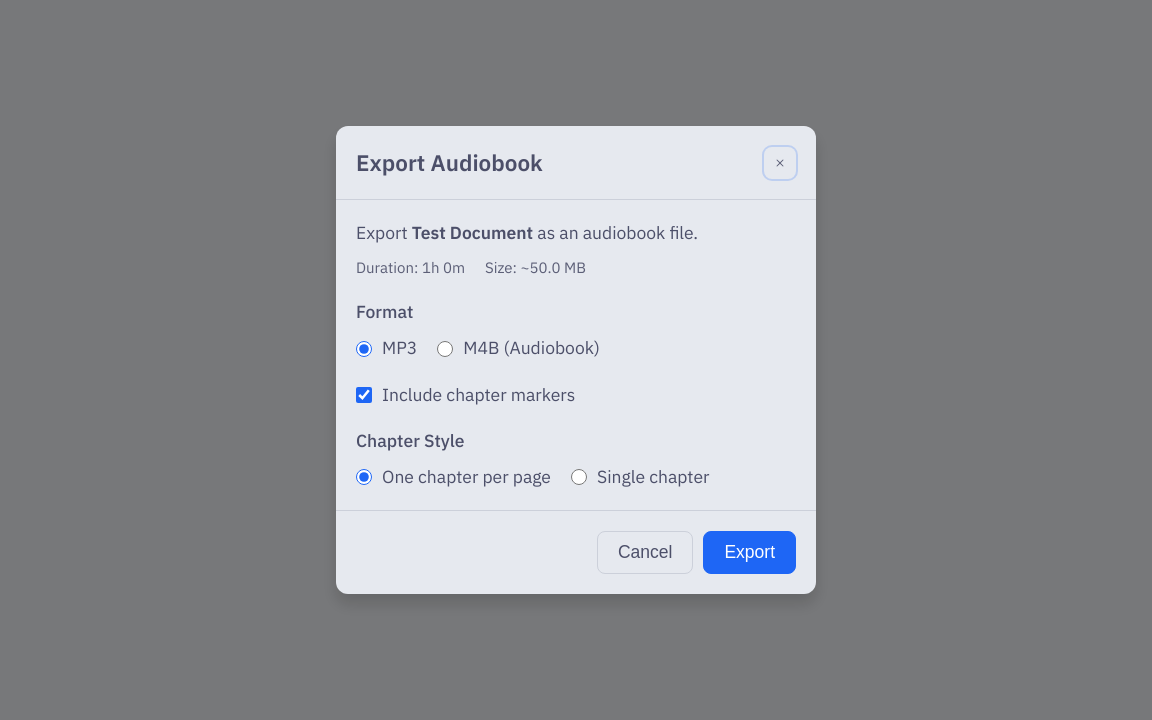
Test: AudioExportDialog › error handling › shows error state when export fails
Click the button "Export".
click(750, 553)  # box [703,531,796,574]
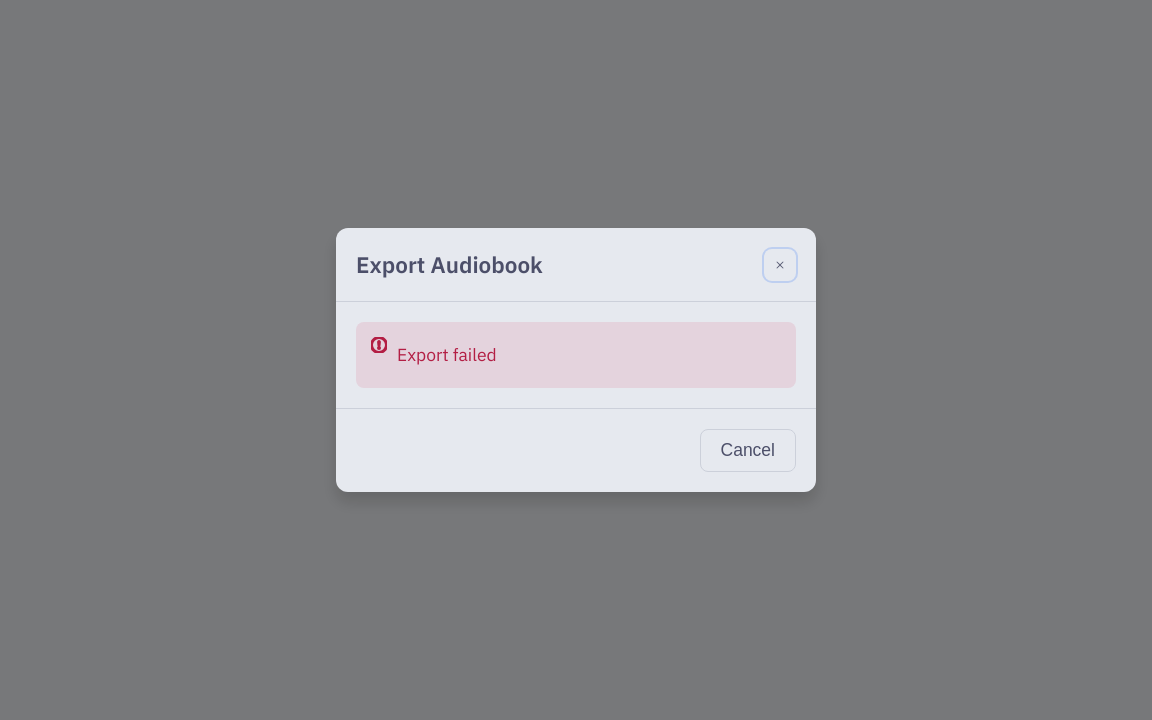
Now the text "Export failed" is shown, box [397,342,497,369]
